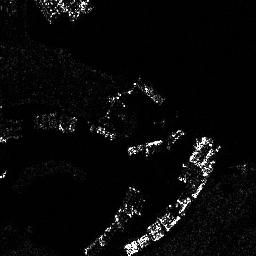ship: (133, 76, 164, 105)
